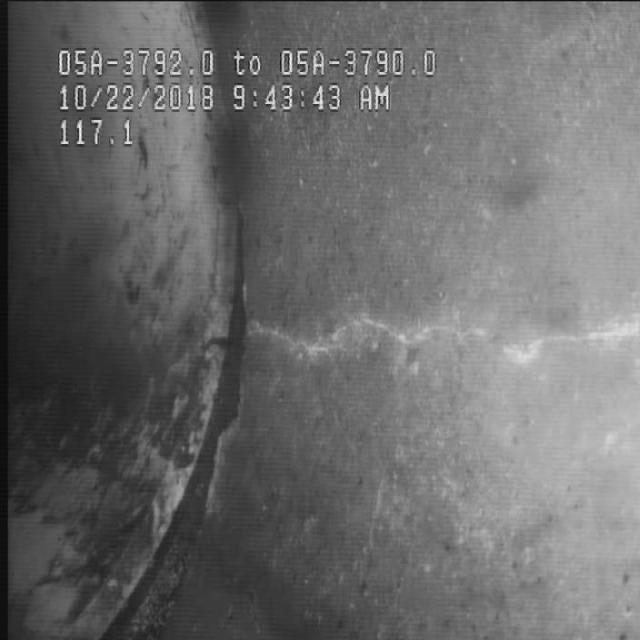Crack: (246, 246, 614, 409)
